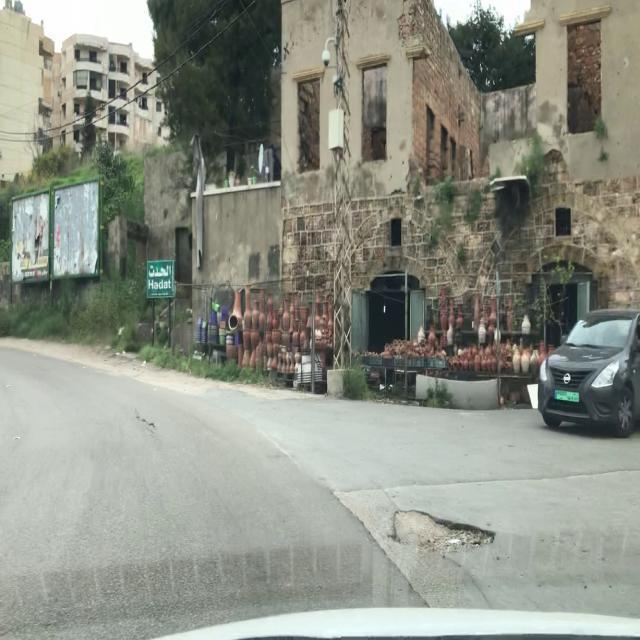pothole: (383, 507, 498, 552)
